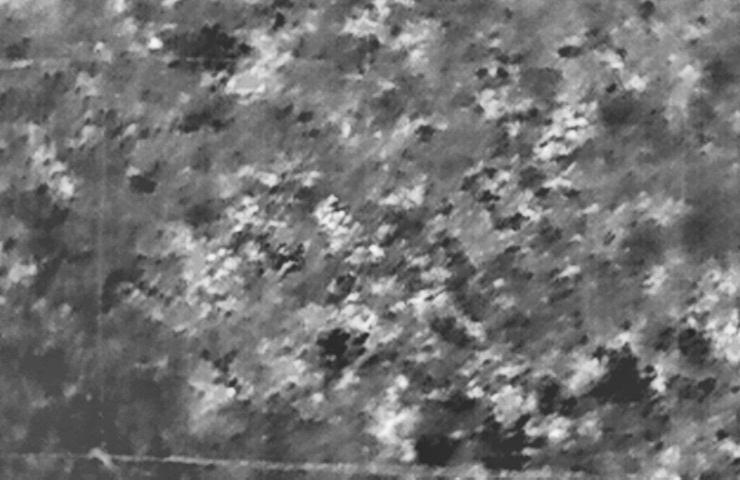landmines: (317, 195, 368, 255)
